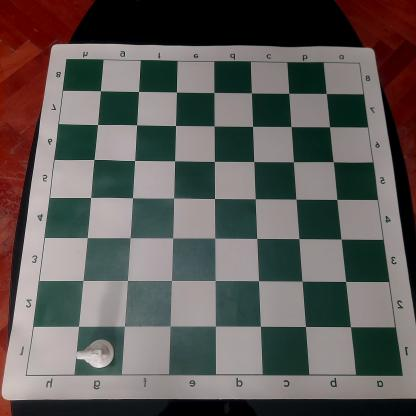white-knight: (75, 338, 116, 372)
